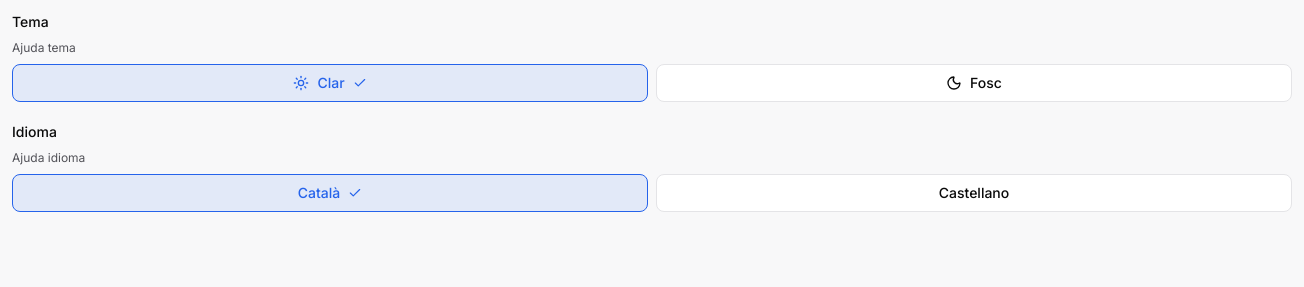
Scenario: PreferencesForm › shows the server error message on failure
The image size is (1304, 287).
Click the radio button labelled "Fosc" at coordinates (974, 83), box x1=656 y1=64 x2=1292 y2=102
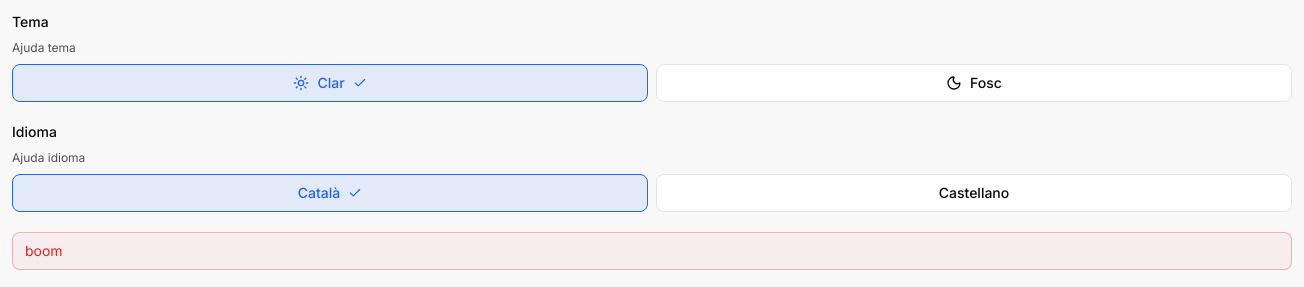
Expected: the text "boom" is shown, x1=12 y1=232 x2=1292 y2=270
